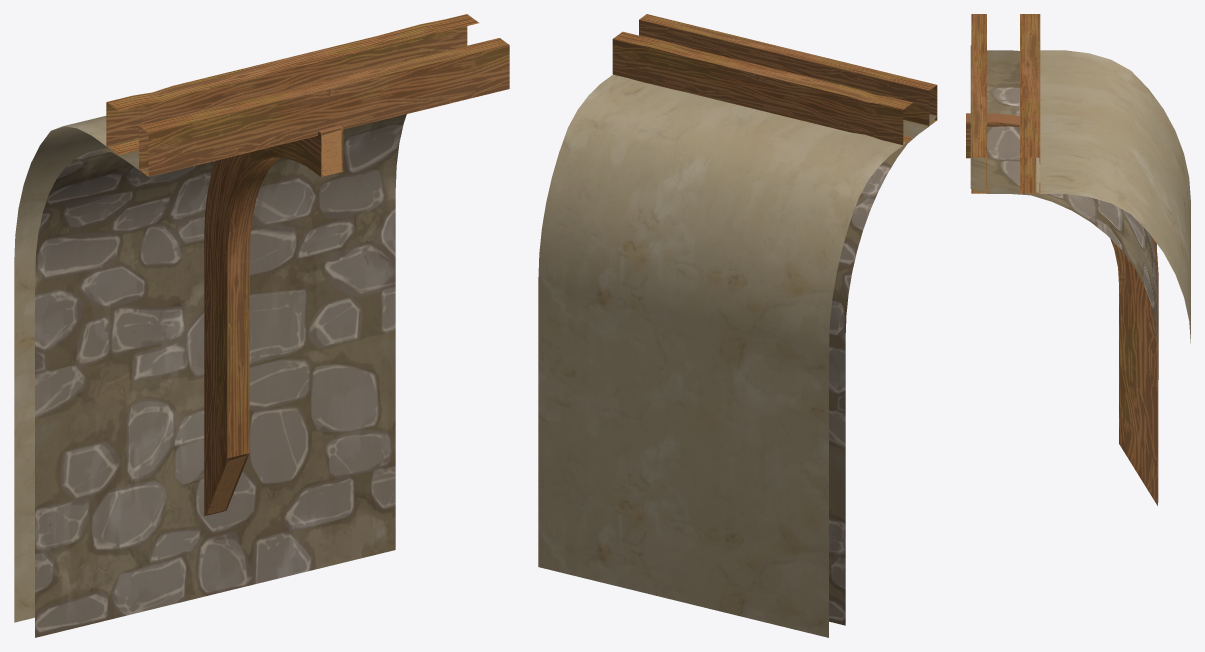
File: Overhang_UnevenBrick_Short.gltf
3 renders of one model, left to right at view 1: azimuth 30°, elevation 25°; view 2: azimuth 150°, elevation 25°; view 3: azimuth 270°, elevation 25°, orthographic. The views are drawn at different scales.
Visible parts, largest first — view 1: Overhang_UnevenBrick_Short; view 2: Overhang_UnevenBrick_Short; view 3: Overhang_UnevenBrick_Short.
Boxes of the visible parts, x1=… form: Overhang_UnevenBrick_Short: x1=14, y1=14, x2=509, y2=637; Overhang_UnevenBrick_Short: x1=538, y1=14, x2=937, y2=637; Overhang_UnevenBrick_Short: x1=966, y1=14, x2=1190, y2=505.
Bounding box in the file's own units: 2 × 3.12 × 1.32.
3 materials, 3 textured.
